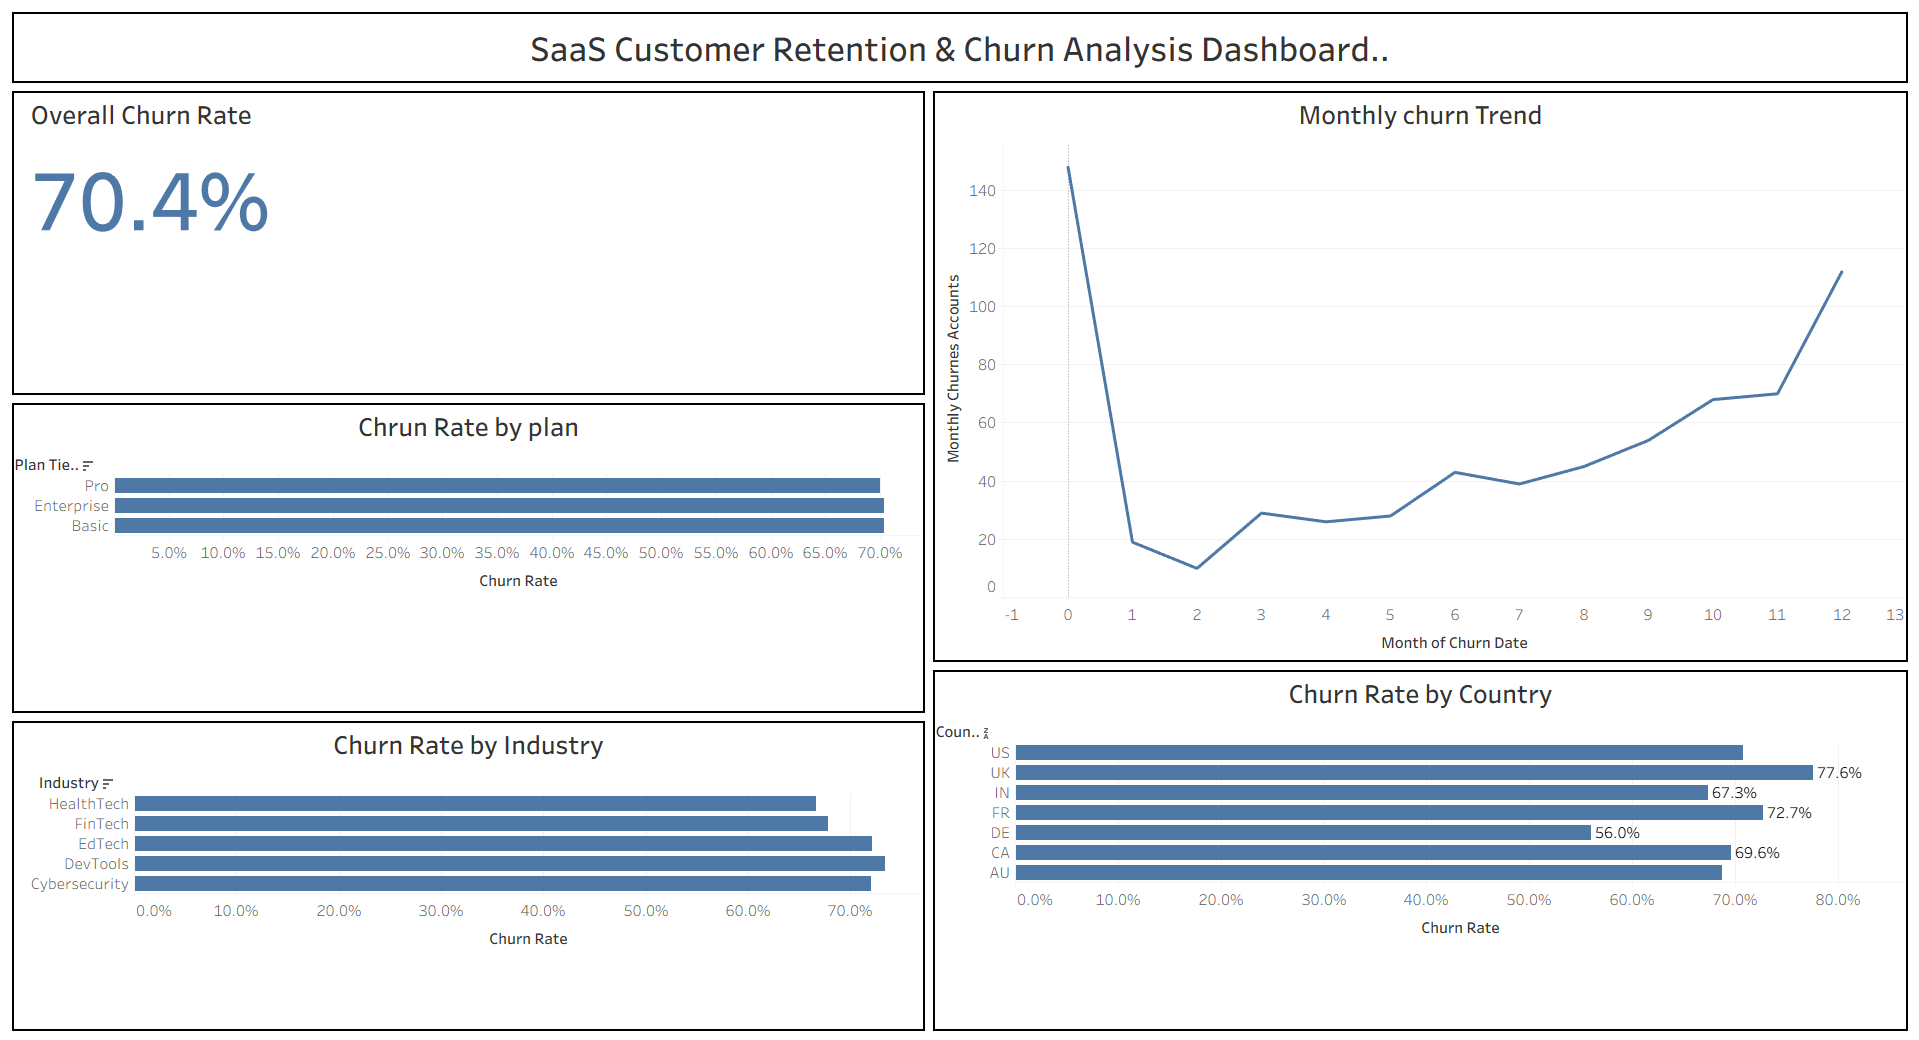

This screenshot's page, from the dashboard's own definition file:
{"tool":"tableau","page":{"name":"SaaS Customer Retention & Churn Analysis Dashboard","canvas":[1000,1000],"units":"permille","ordinal":0},"visuals":[{"type":"title","box":[4.8,9.4,990.3,92.8]},{"type":"worksheet","title":"Overall Churn Rate ","mark":"Text","box":[4.8,102.2,479.1,292.5]},{"type":"worksheet","title":"Monthly churn Trend","mark":"Automatic","rows":["Calculation_0819453684604932"],"cols":["churn_date"],"box":[483.9,102.2,511.3,542.5]},{"type":"worksheet","title":"Chrun Rate by plan","mark":"Automatic","rows":["plan_tier (ravenstack_subscriptions.csv)"],"cols":["Calculation_0819453680181251"],"box":[4.8,394.7,479.1,297.9]},{"type":"worksheet","title":"Churn Rate by Country","mark":"Automatic","rows":["country"],"cols":["Calculation_0819453680181251"],"box":[483.9,644.7,511.3,345.9]},{"type":"worksheet","title":"Churn Rate by Industry","mark":"Automatic","rows":["industry"],"cols":["Calculation_0819453680181251"],"box":[4.8,692.6,479.1,298]}]}

Visuals, with their boxes on the dashboard's canvas, which has no fixed pixel size, in thousandths of its width and height (x1, y1, x2, y2). These are canvas units, not pixel positions in the 1919x1040 screenshot, which may show the page scaled, cropped or inside an application window:
title: <box>5,9,995,102</box>
"Overall Churn Rate " worksheet (Text marks): <box>5,102,484,395</box>
"Monthly churn Trend" worksheet: <box>484,102,995,645</box>
"Chrun Rate by plan" worksheet: <box>5,395,484,693</box>
"Churn Rate by Country" worksheet: <box>484,645,995,991</box>
"Churn Rate by Industry" worksheet: <box>5,693,484,991</box>
